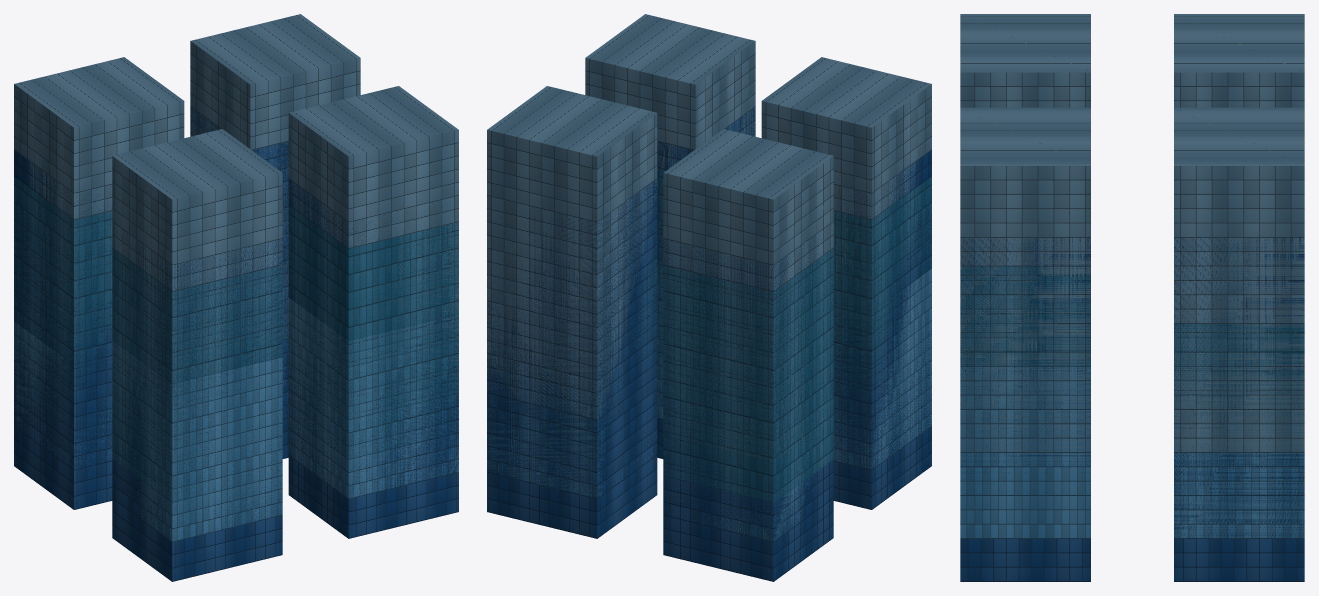
File: Catalog-61.glb
The picture shows the model from 3 angles, left to right: view 1: azimuth 30°, elevation 25°; view 2: azimuth 150°, elevation 25°; view 3: azimuth 270°, elevation 25°; orthographic projection. The views are drawn at different scales.
Parts seen in each view (by area): view 1: Metropolis Glass SilverBlue (×4), Metropolis Glass Cerulean (×3), Metropolis Glass Azure (×4), Metropolis Glass Glacier (×3); view 2: Metropolis Glass SilverBlue (×4), Metropolis Glass Azure (×4), Metropolis Glass Cerulean (×4), Metropolis Glass Glacier (×4); view 3: Metropolis Glass SilverBlue (×4), Metropolis Glass Glacier (×2), Metropolis Glass Azure (×2), Metropolis Glass Cerulean (×2).
Part boxes in pixels (x1,y1,x2,y2): Metropolis Glass SilverBlue (×4): (14,14,458,462); Metropolis Glass Cerulean (×3): (14,176,458,502); Metropolis Glass Azure (×4): (14,107,458,581); Metropolis Glass Glacier (×3): (14,298,458,542); Metropolis Glass SilverBlue (×4): (487,14,931,462); Metropolis Glass Azure (×4): (487,107,931,581); Metropolis Glass Cerulean (×4): (504,134,931,502); Metropolis Glass Glacier (×4): (487,260,931,541); Metropolis Glass SilverBlue (×4): (960,14,1304,452); Metropolis Glass Glacier (×2): (960,367,1304,538); Metropolis Glass Azure (×2): (960,237,1304,581); Metropolis Glass Cerulean (×2): (960,266,1304,493).
Bounding box in the file's own units: 91 × 116 × 87.
16 materials, 16 textured.
